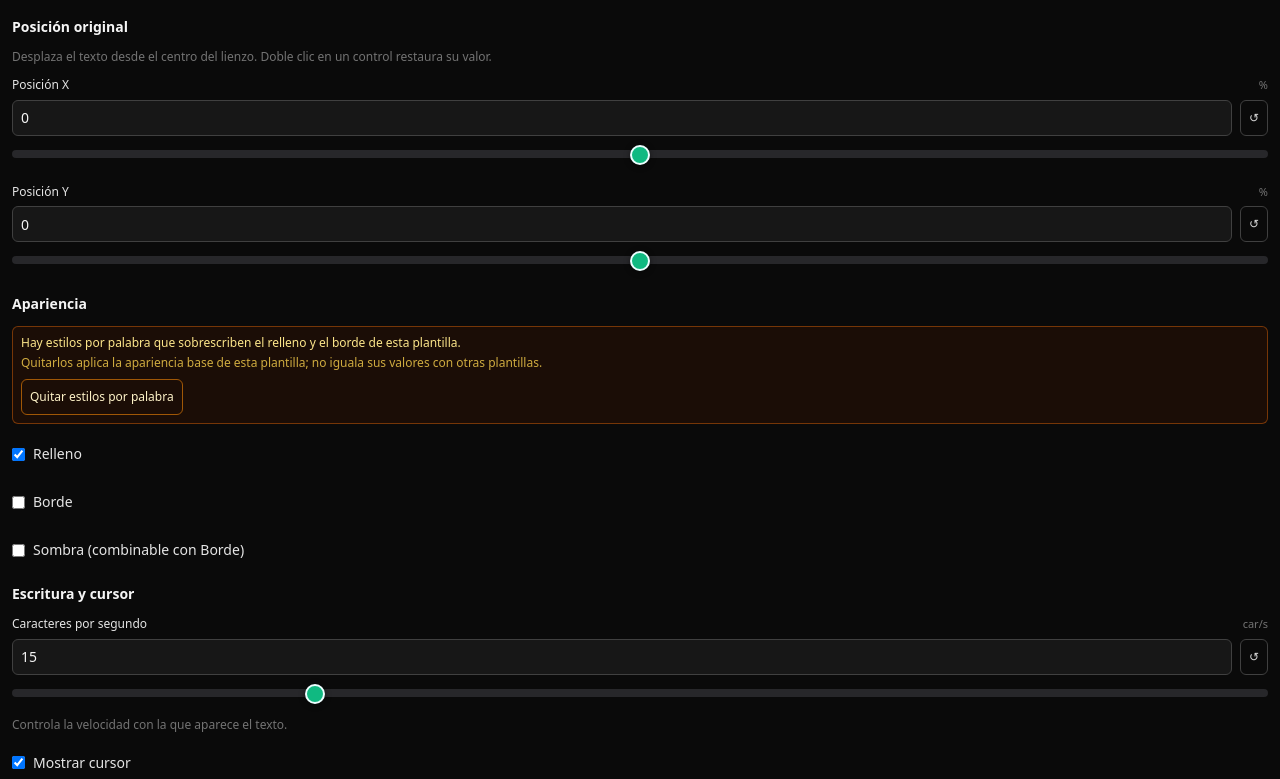
TextBasicTab › explains and clears range overrides before global appearance editing
(page scrolled)
Expected: the text "estilos por palabra" is shown, left=21, top=334, right=461, bottom=351
Step 1. Click the button "Quitar estilos por palabra" → (102, 397), box left=21, top=379, right=183, bottom=415
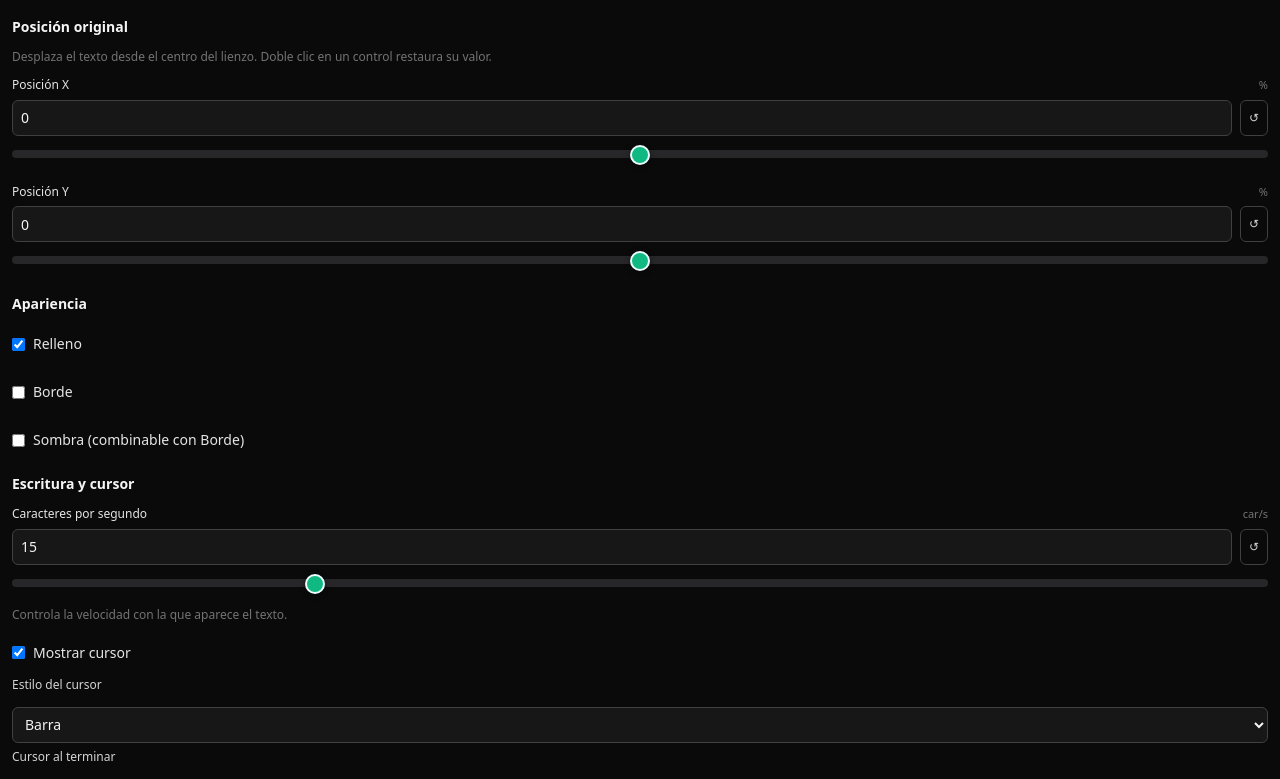
Expected: the text "estilos por palabra" is gone
